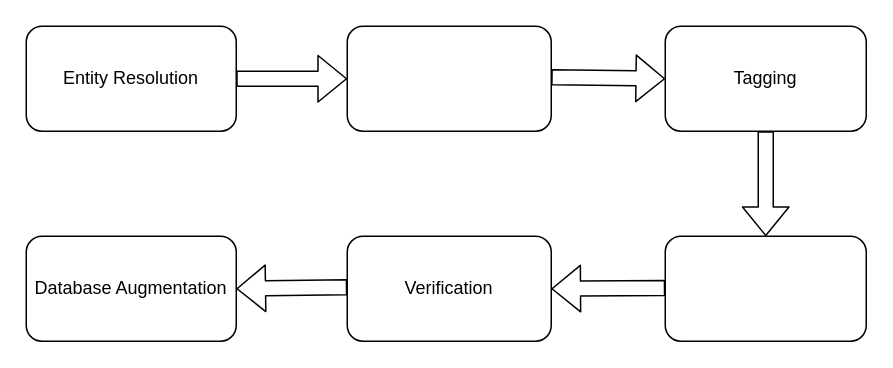
The diagram is 893 pixels wide and 368 high, and some of its shapes have lost their labels. The shapes that lost their labels are listed below. From the top down, each one's box as (x1, y1, x2, y2) in pixels, then its label:
(346, 25, 551, 131): Creating Subset
(664, 235, 866, 341): Executing Snowball
